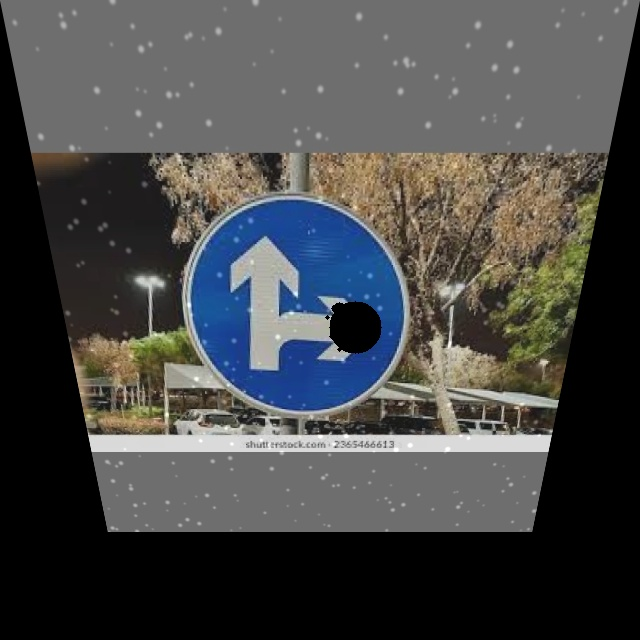Compulsory_Ahead_or_Turn_Right: (173, 193, 419, 414)
